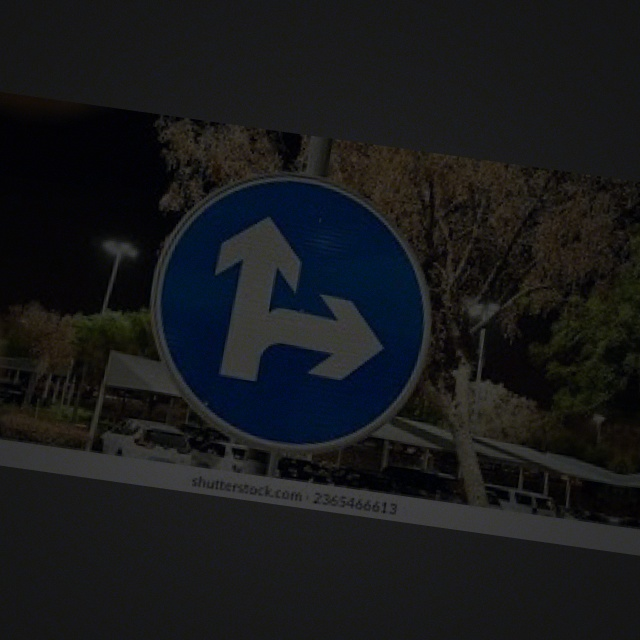Compulsory_Ahead_or_Turn_Right: (135, 157, 450, 466)
